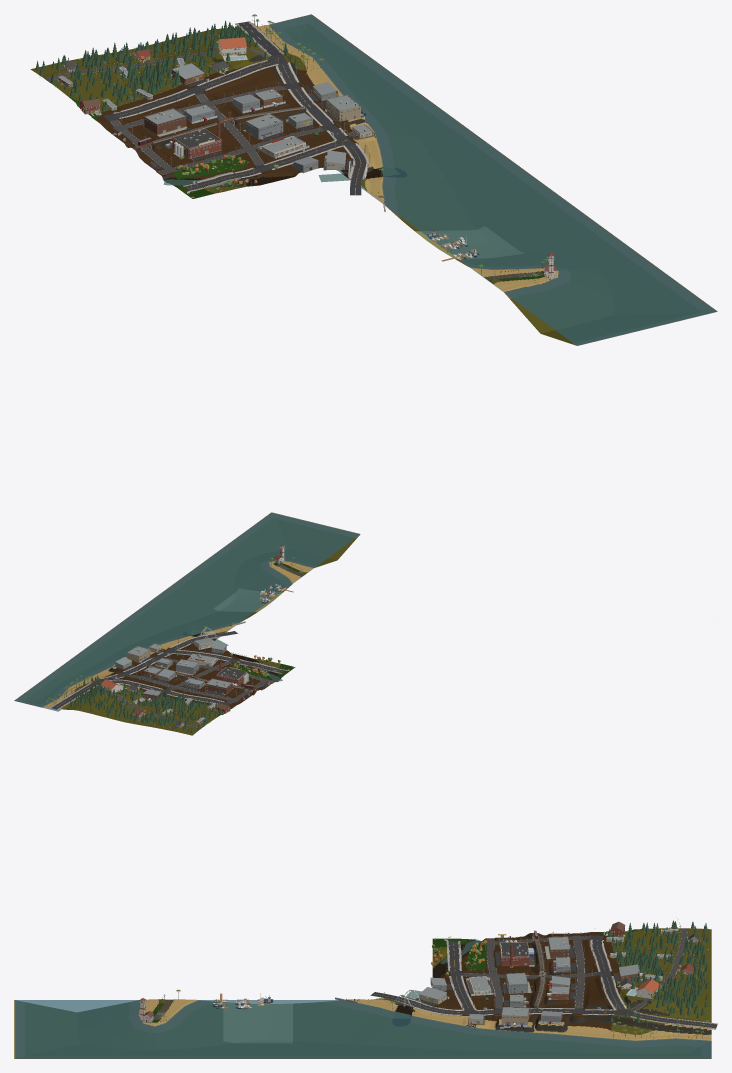
The model's file is PortSolace_Exterior_part5of5.fbx.
The picture shows the model from 3 angles, top to bottom: view 1: azimuth 30°, elevation 25°; view 2: azimuth 150°, elevation 25°; view 3: azimuth 270°, elevation 25°; orthographic projection. The views are drawn at different scales.
Parts seen in each view (by area): view 1: Props_C3_4.leaf_pine, Terrain_1_8, Terrain_3_9, Terrain_4_9, Terrain_1_9, Terrain_5_9, Terrain_6_9, Sea_0_8, Sea_1_9, Sea_4_9, Sea_3_9, Sea_5_9 (+38 smaller); view 2: Props_C3_4.leaf_pine, Terrain_0_8, Terrain_0_9, Terrain_3_9, Terrain_4_9, Terrain_2_9, Terrain_5_9, Terrain_2_8, Sea_0_8, Sea_2_9, Sea_3_9, Sea_4_9 (+35 smaller); view 3: Props_C3_4.leaf_pine, Terrain_4_8, Terrain_3_8, Terrain_9_9, Terrain_2_8, Terrain_8_9, Terrain_7_9, Terrain_5_8, Sea_2_9, Sea_5_9, Sea_6_9, Sea_0_9 (+40 smaller).
Part boxes in pixels (x1=…): Props_C3_4.leaf_pine: x1=35, y1=32, x2=212, y2=110; Terrain_1_8: x1=496, y1=271, x2=605, y2=329; Terrain_3_9: x1=486, y1=193, x2=595, y2=252; Terrain_4_9: x1=445, y1=163, x2=555, y2=225; Terrain_1_9: x1=567, y1=252, x2=676, y2=312; Terrain_5_9: x1=404, y1=133, x2=514, y2=191; Terrain_6_9: x1=364, y1=103, x2=473, y2=154; Sea_0_8: x1=537, y1=299, x2=646, y2=345; Sea_1_9: x1=566, y1=252, x2=676, y2=298; Sea_4_9: x1=444, y1=163, x2=554, y2=209; Sea_3_9: x1=485, y1=193, x2=594, y2=239; Sea_5_9: x1=404, y1=133, x2=513, y2=179; Props_C3_4.leaf_pine: x1=106, y1=687, x2=221, y2=732; Terrain_0_8: x1=292, y1=523, x2=359, y2=560; Terrain_0_9: x1=246, y1=512, x2=315, y2=550; Terrain_3_9: x1=169, y1=569, x2=238, y2=608; Terrain_4_9: x1=143, y1=588, x2=211, y2=624; Terrain_2_9: x1=194, y1=550, x2=263, y2=587; Terrain_5_9: x1=117, y1=606, x2=185, y2=638; Terrain_2_8: x1=240, y1=562, x2=308, y2=592; Sea_0_8: x1=291, y1=523, x2=360, y2=552; Sea_2_9: x1=195, y1=550, x2=263, y2=579; Sea_3_9: x1=169, y1=569, x2=238, y2=598; Sea_4_9: x1=143, y1=588, x2=212, y2=617; Props_C3_4.leaf_pine: x1=608, y1=920, x2=709, y2=990; Terrain_4_8: x1=293, y1=999, x2=362, y2=1042; Terrain_3_8: x1=223, y1=1002, x2=292, y2=1042; Terrain_9_9: x1=641, y1=1020, x2=711, y2=1058; Terrain_2_8: x1=153, y1=999, x2=222, y2=1040; Terrain_8_9: x1=572, y1=1020, x2=641, y2=1058; Terrain_7_9: x1=502, y1=1023, x2=571, y2=1058; Terrain_5_8: x1=362, y1=998, x2=432, y2=1039; Sea_2_9: x1=153, y1=1029, x2=223, y2=1058; Sea_5_9: x1=362, y1=1029, x2=432, y2=1058; Sea_6_9: x1=432, y1=1029, x2=502, y2=1058; Sea_0_9: x1=14, y1=1029, x2=83, y2=1058.
Size of the model in its own units: 256050 by 17670 by 258430.
